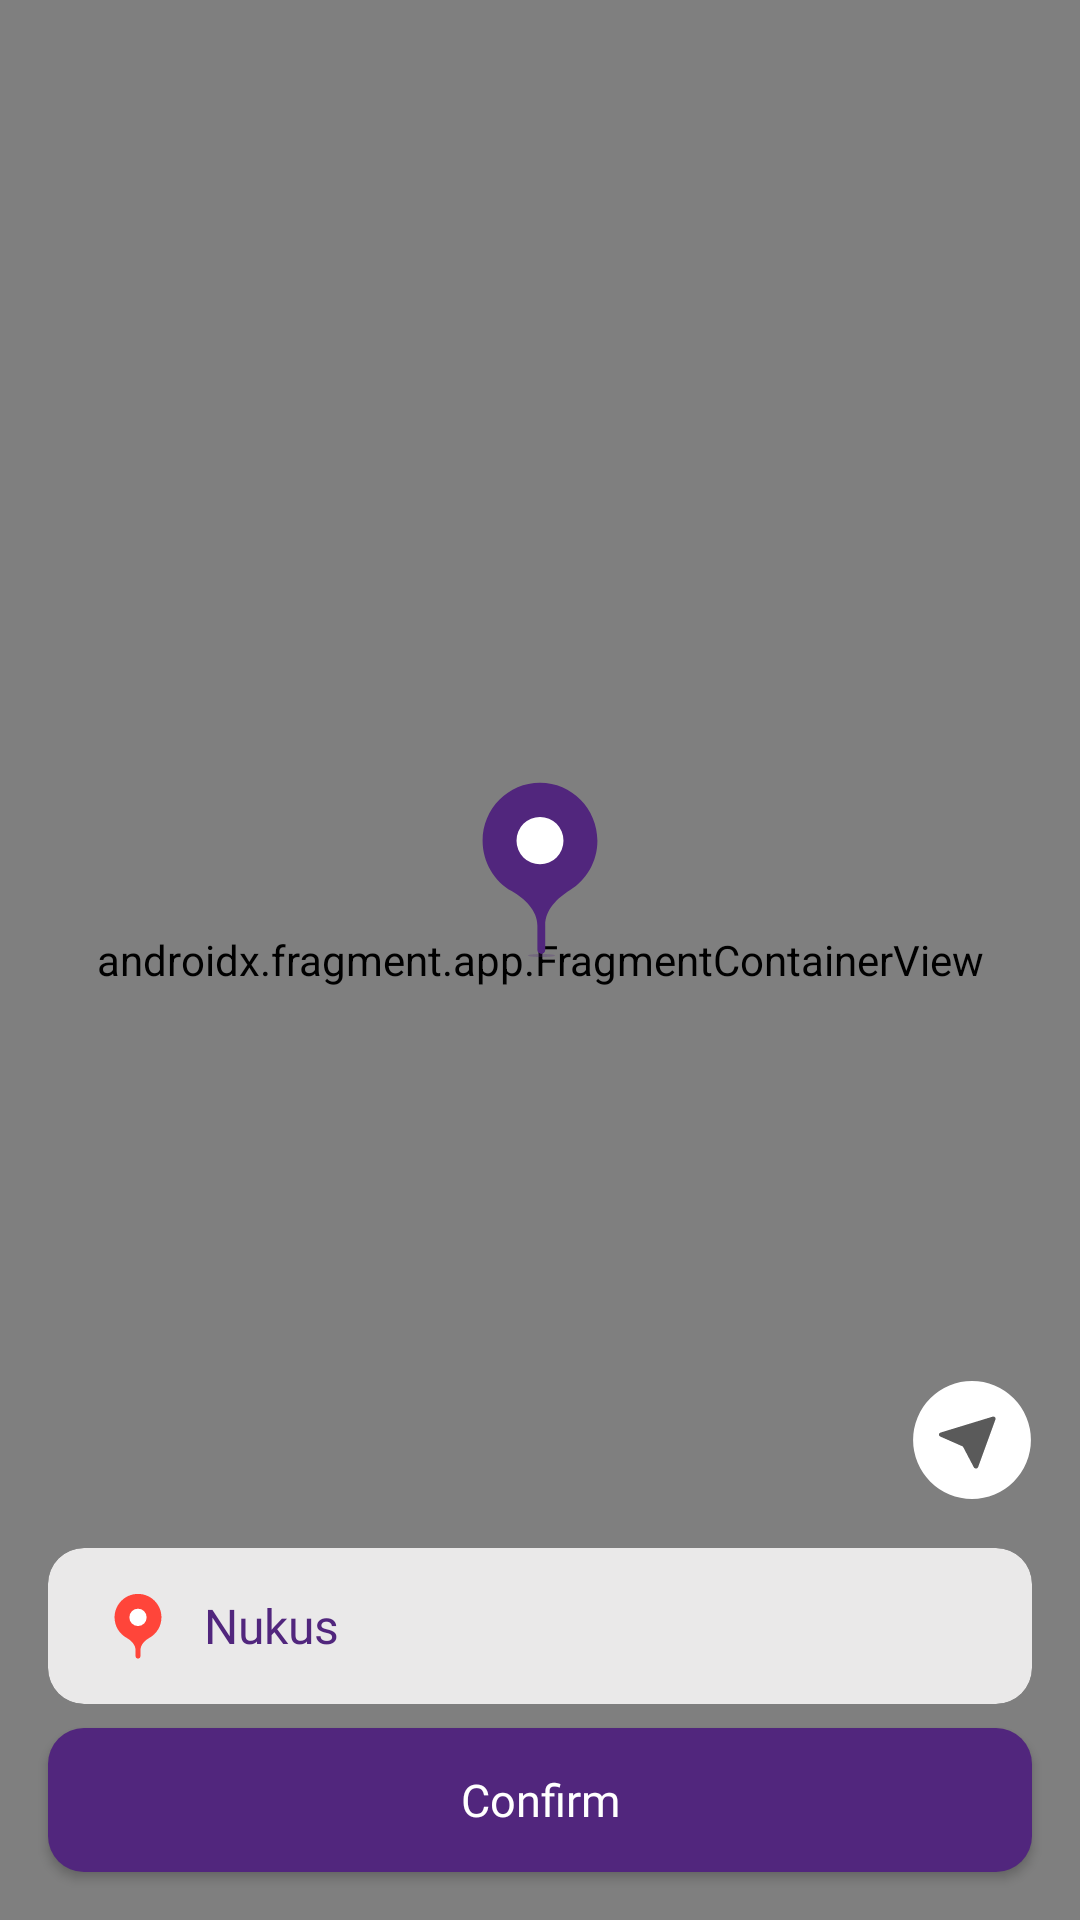

Icon bounding boxes for this 1080×1920 phone screenshot, format (x1, y1, x2, y2):
location: (913, 1381, 1031, 1499)
